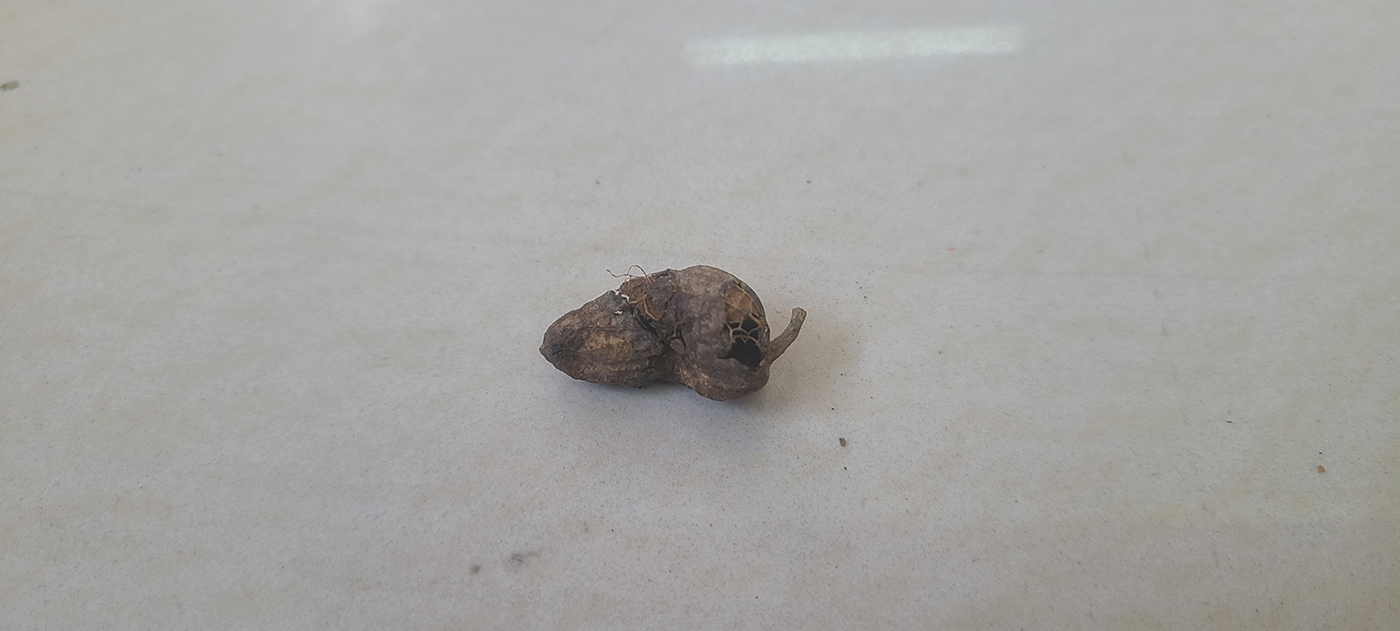l: (542, 260, 812, 399)
